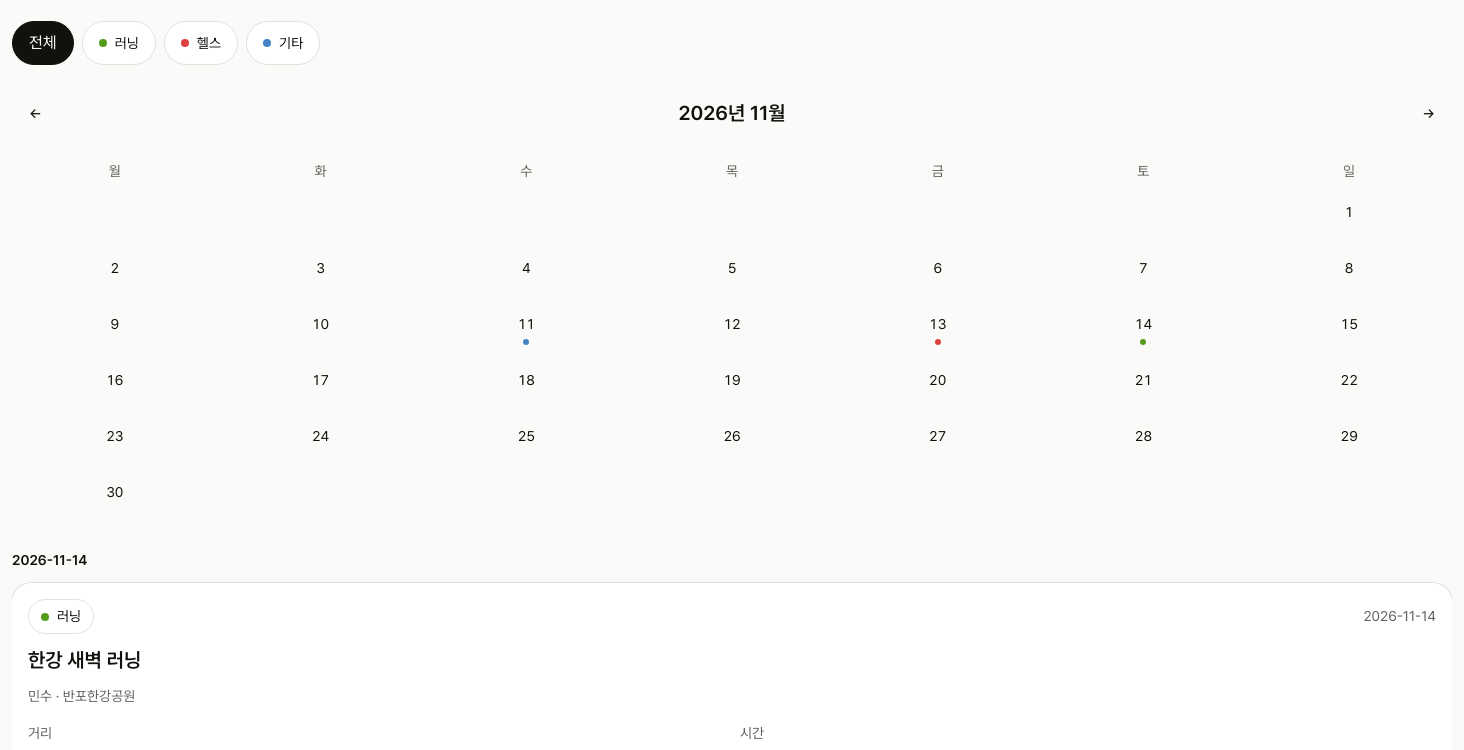
Scenario: WorkoutListView › 달력에서 하루를 선택하고 전체 기록으로 돌아온다
Click the button named "2026-11-14, 러닝" at (1143, 330), box [1041, 302, 1246, 358]
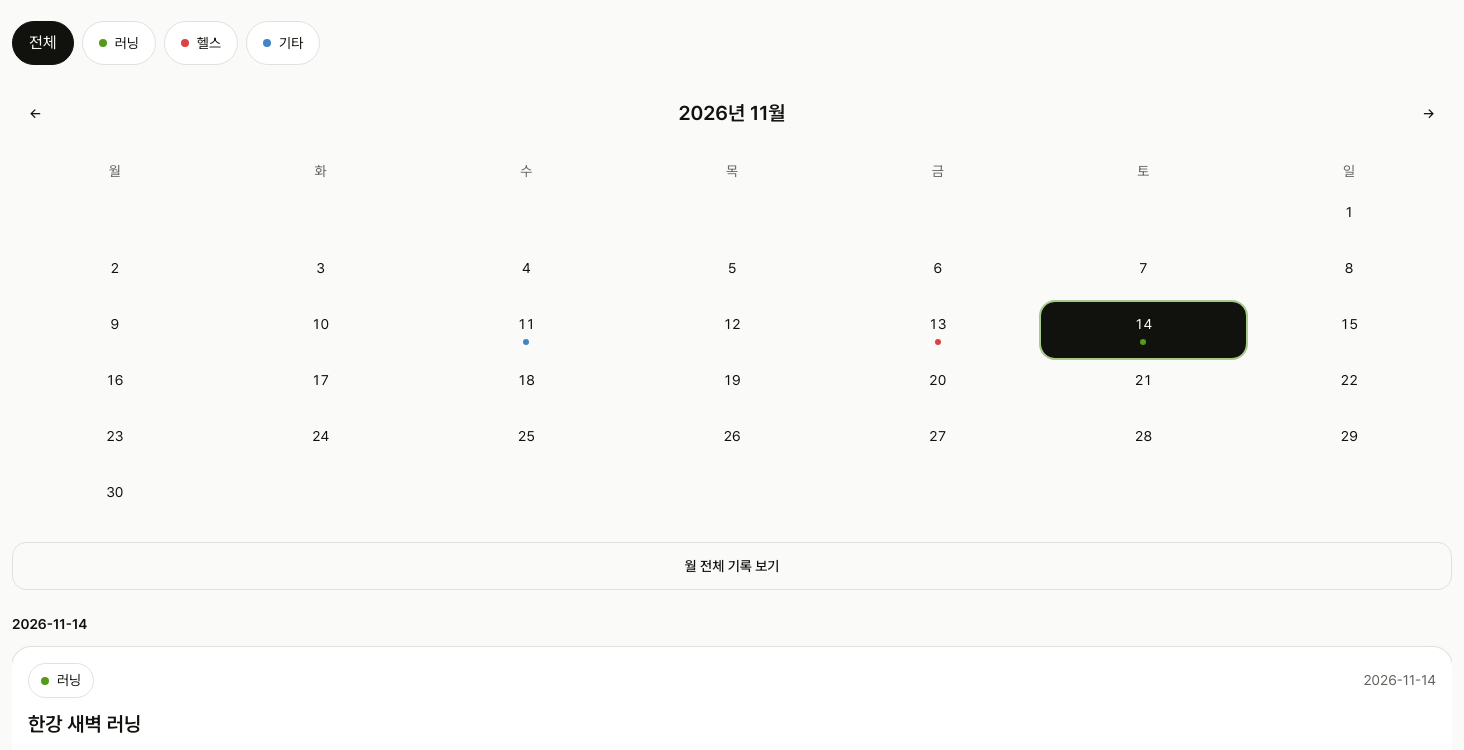
Expected: the link "한강 새벽 러닝" is shown, [28, 712, 141, 736]
Click the button "월 전체 기록 보기" at (732, 566), box [12, 542, 1452, 590]
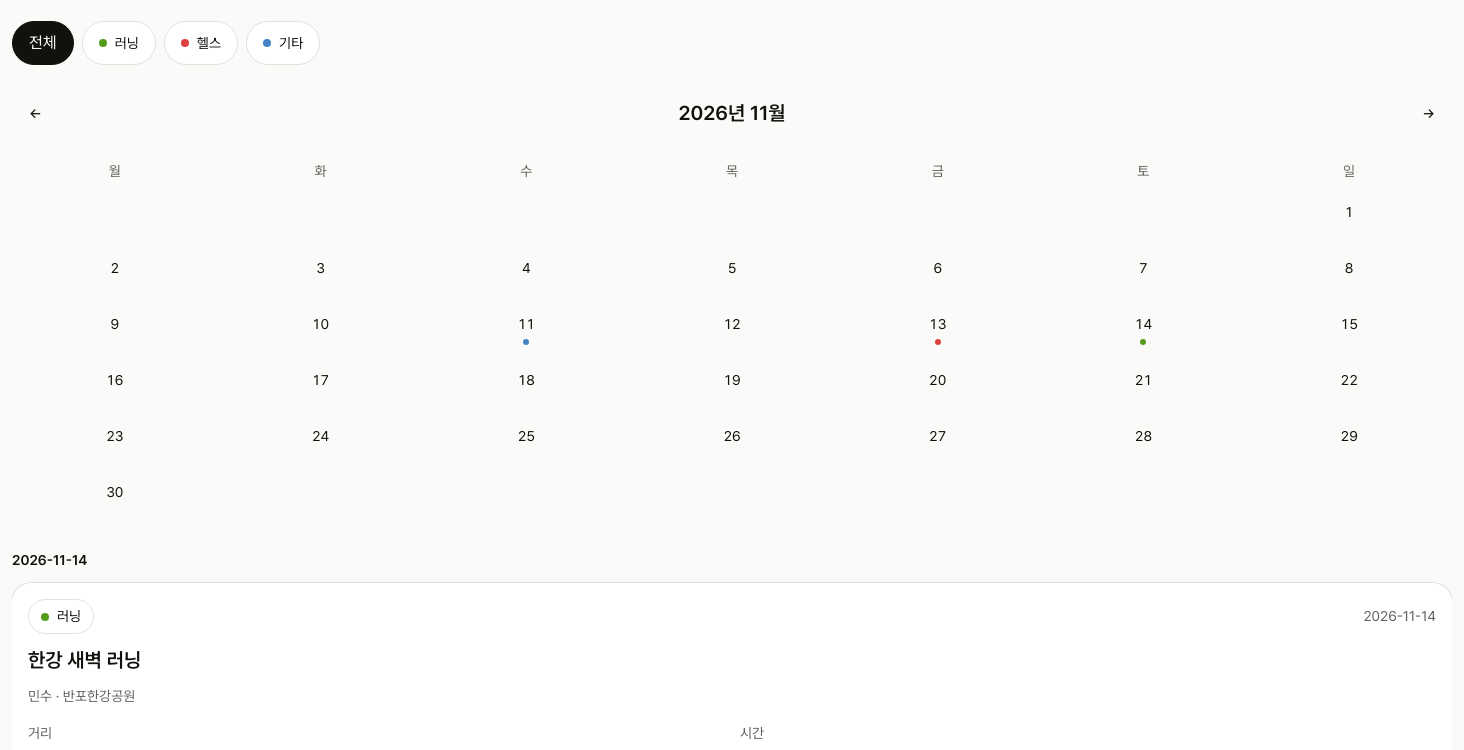
Click the button named "2026-11-15, 운동 없음" at (1349, 330), box [1246, 302, 1452, 358]
(page scrolled)
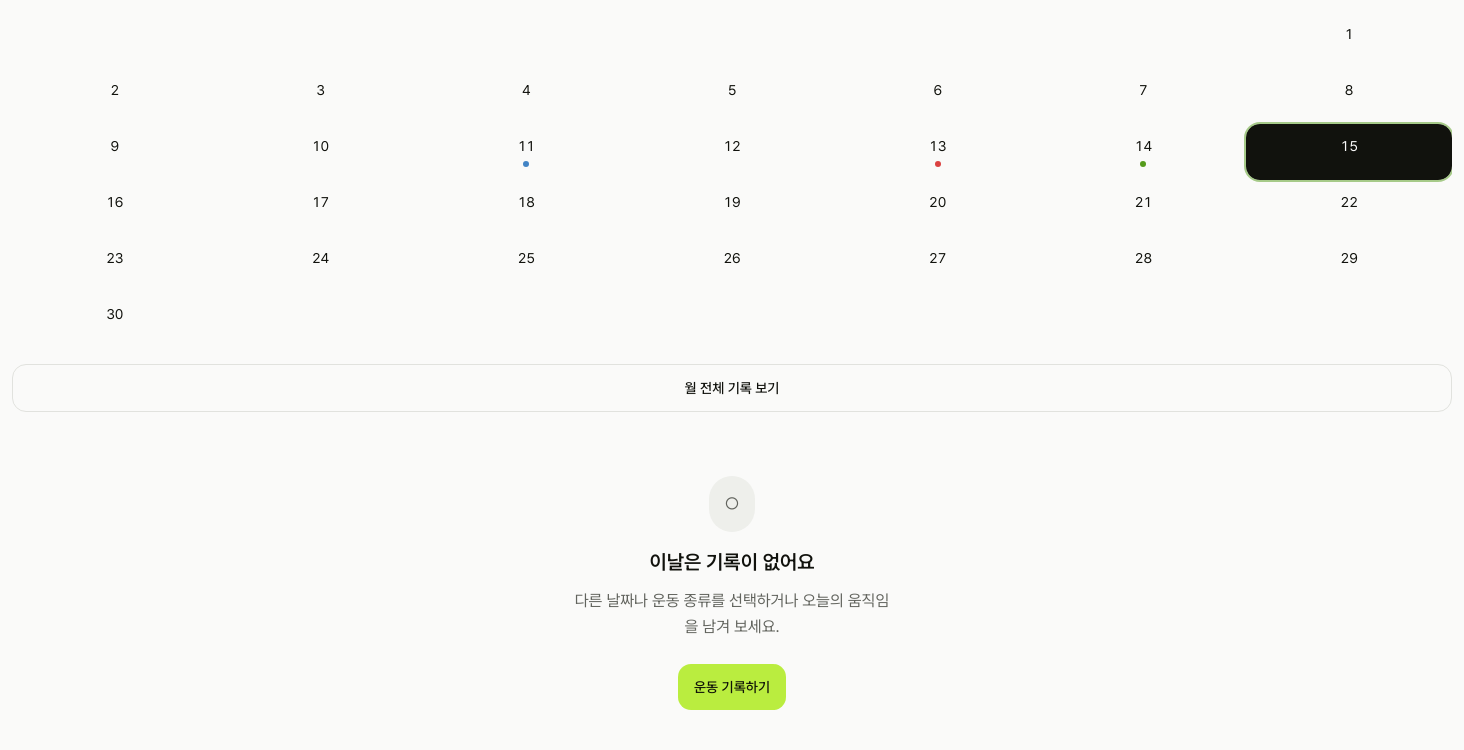
Result: the heading "이날은 기록이 없어요" is shown at [650, 548, 815, 576]
